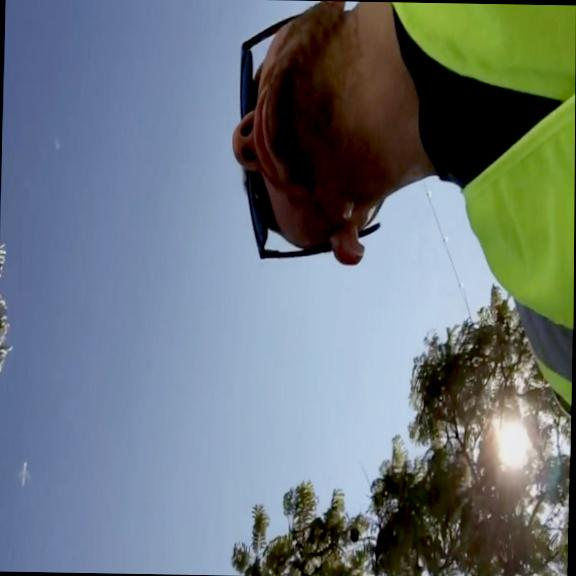safety_vest: (381, 2, 576, 418)
